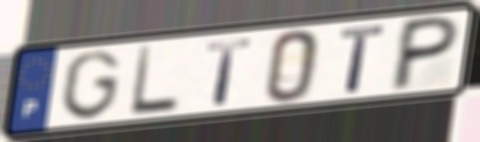0: (261, 26, 322, 105)
G: (59, 47, 124, 122)
L: (127, 42, 182, 119)
P: (385, 13, 465, 95)
T: (337, 22, 389, 95), (204, 35, 255, 108)
